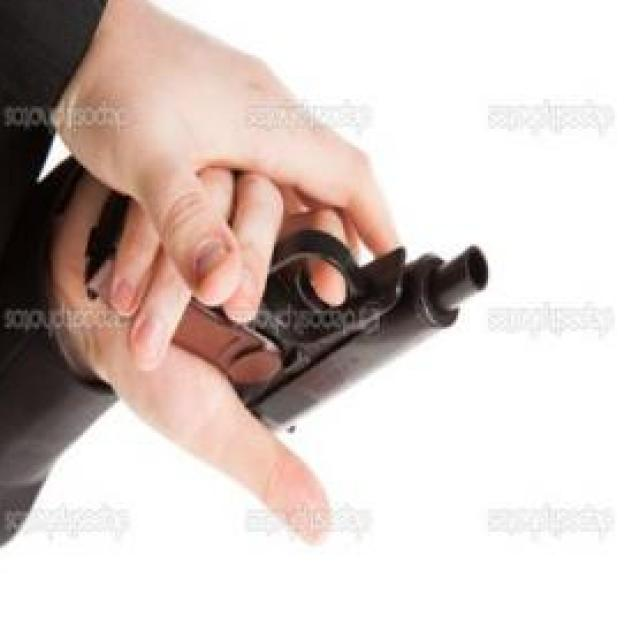pistol: (71, 128, 495, 502)
